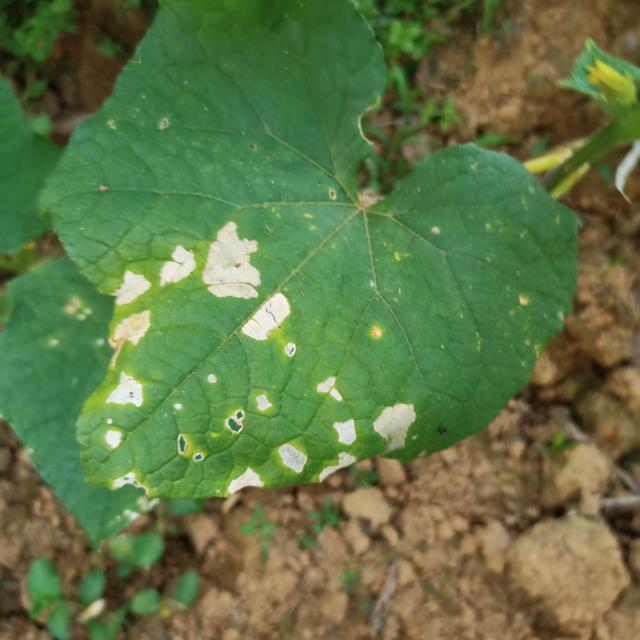disease_cucumber: (206, 222, 291, 344), (104, 370, 146, 449), (114, 270, 151, 348), (373, 402, 418, 453), (318, 418, 356, 474), (226, 392, 273, 436), (157, 244, 197, 286), (226, 464, 264, 493), (275, 442, 307, 476), (311, 374, 345, 404)
